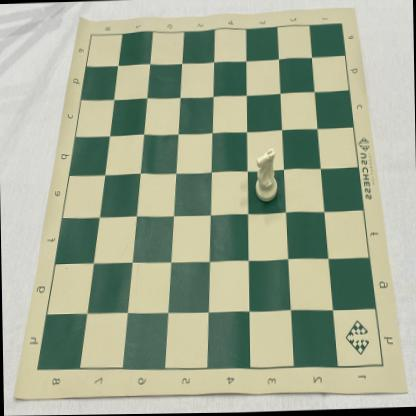white-knight: (253, 147, 278, 204)
